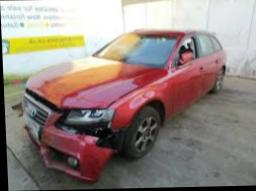Bumper: (22, 92, 120, 184)
Door: (167, 34, 199, 70)
